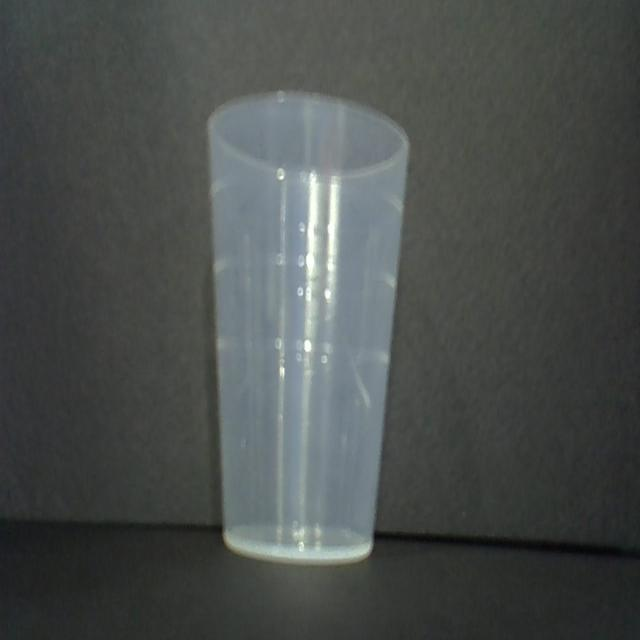cup: (202, 80, 413, 565)
